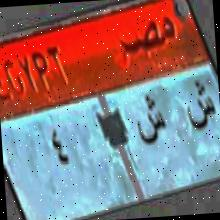4: (49, 122, 72, 177)
sheen: (130, 86, 168, 152), (184, 75, 219, 140)
